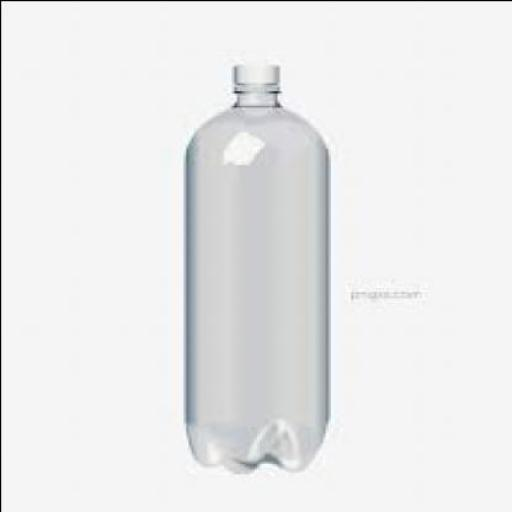glass: (182, 82, 328, 467)
metal: (226, 59, 276, 84)
